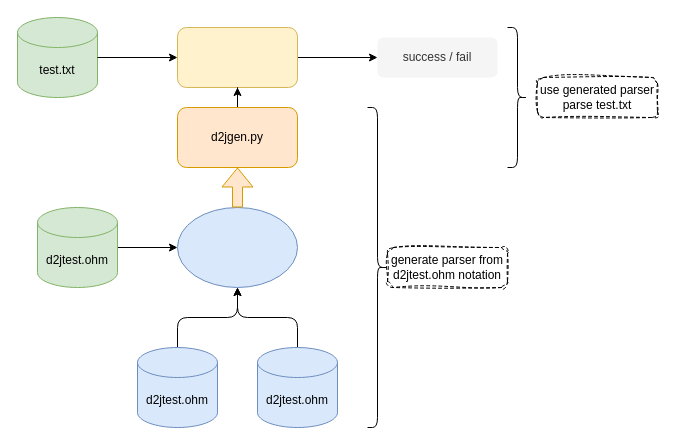
The diagram is 675 pixels wide and 445 high, and some of its shapes have lost their labels. The shapes that lost their labels are listed below. From the top down, each one's centre as x and y in pixels, then its label:
At pixel 237 57: "test.py".
At pixel 237 247: "T2T".
